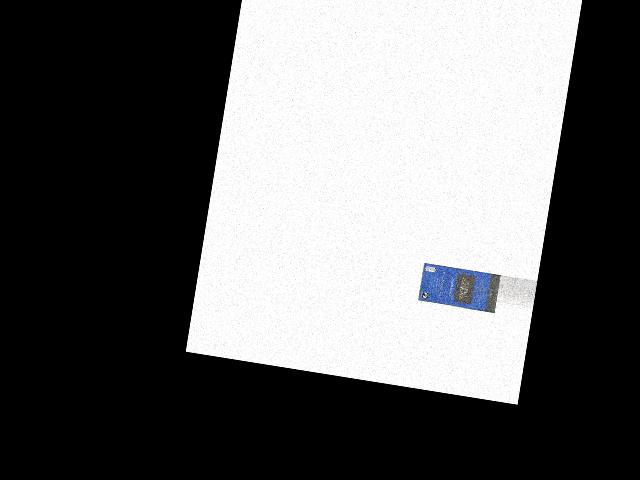chocolate: (419, 262, 500, 313)
